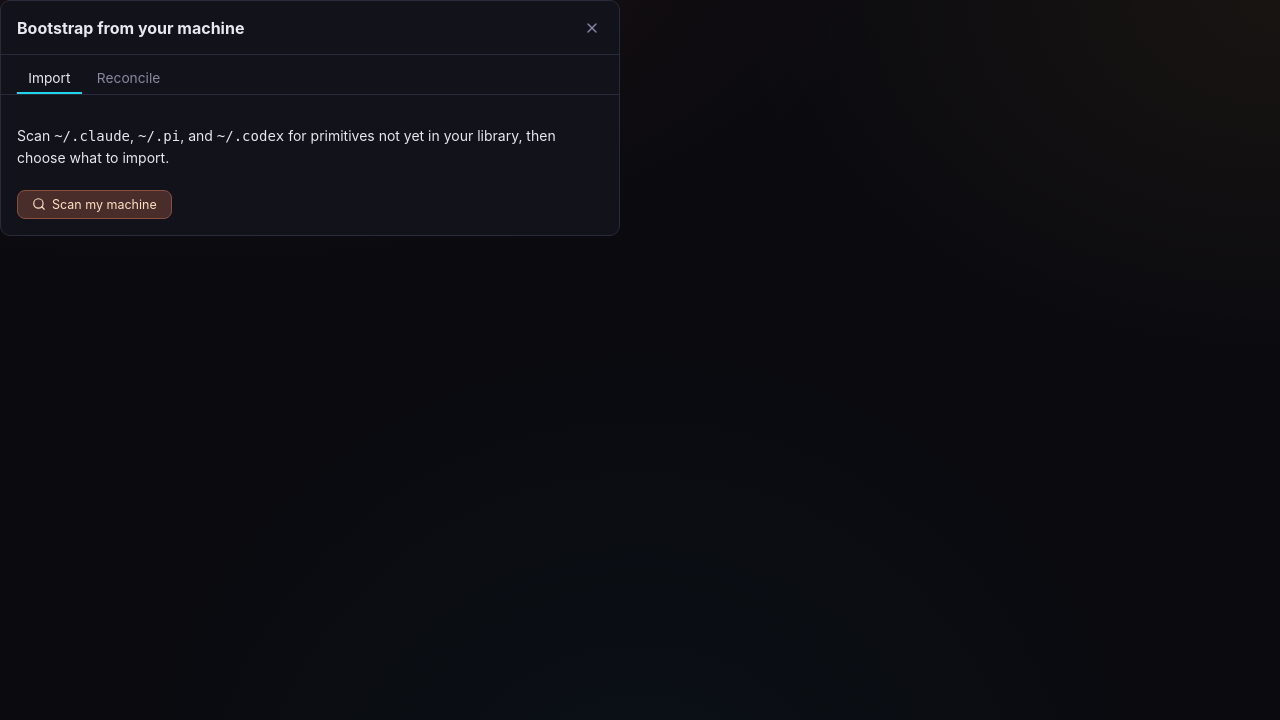
it: BootstrapWizard — scan → review › scanning shows the banner counts and lists creates + reimports default-checked
Click the button "Scan my machine" at x=94, y=204, box [17,190,172,219]
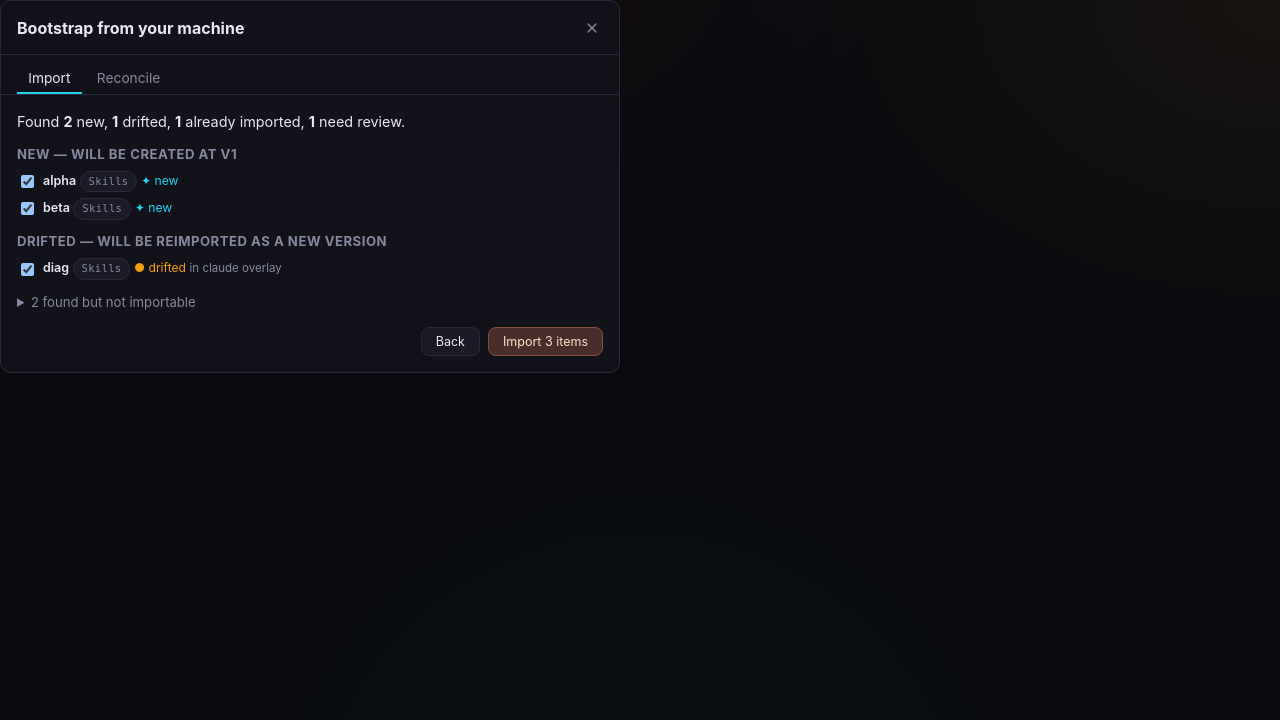
Expected: the heading "New — will be created at v1" is shown, [17,146,237,162]
Expected: the number of checkboxes is 3, [21,175,34,188]; [21,202,34,215]; [21,263,34,276]
Expected: the heading "2 found but not importable" is shown, [31,294,196,310]
